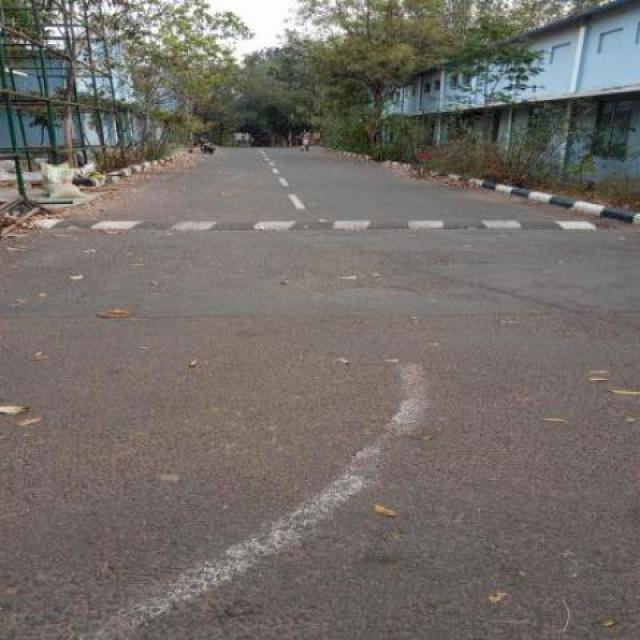Speed Bump: (6, 214, 622, 233)
